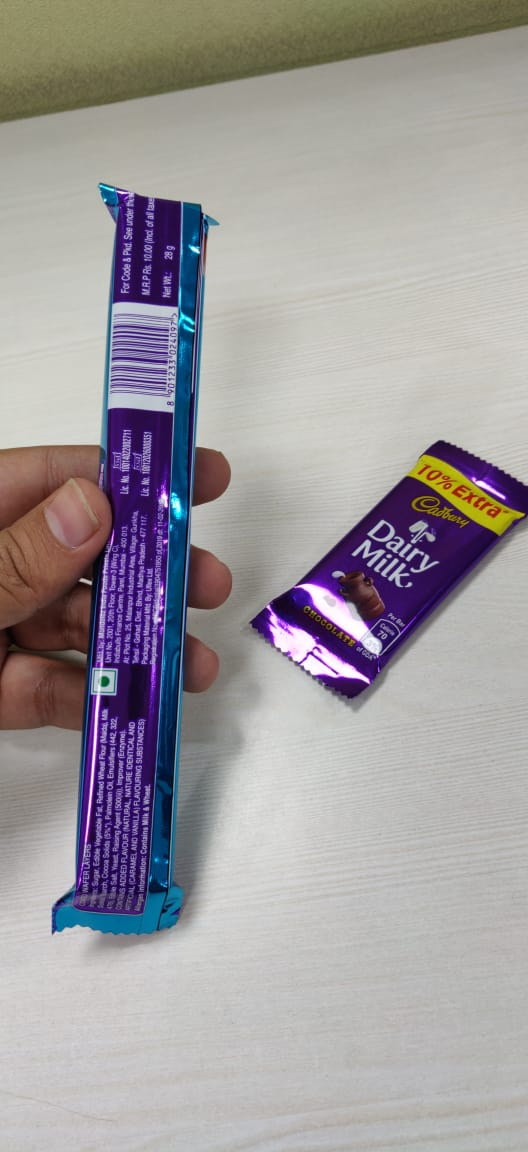dairy milk: (247, 423, 528, 714)
perk: (43, 169, 234, 1000)
